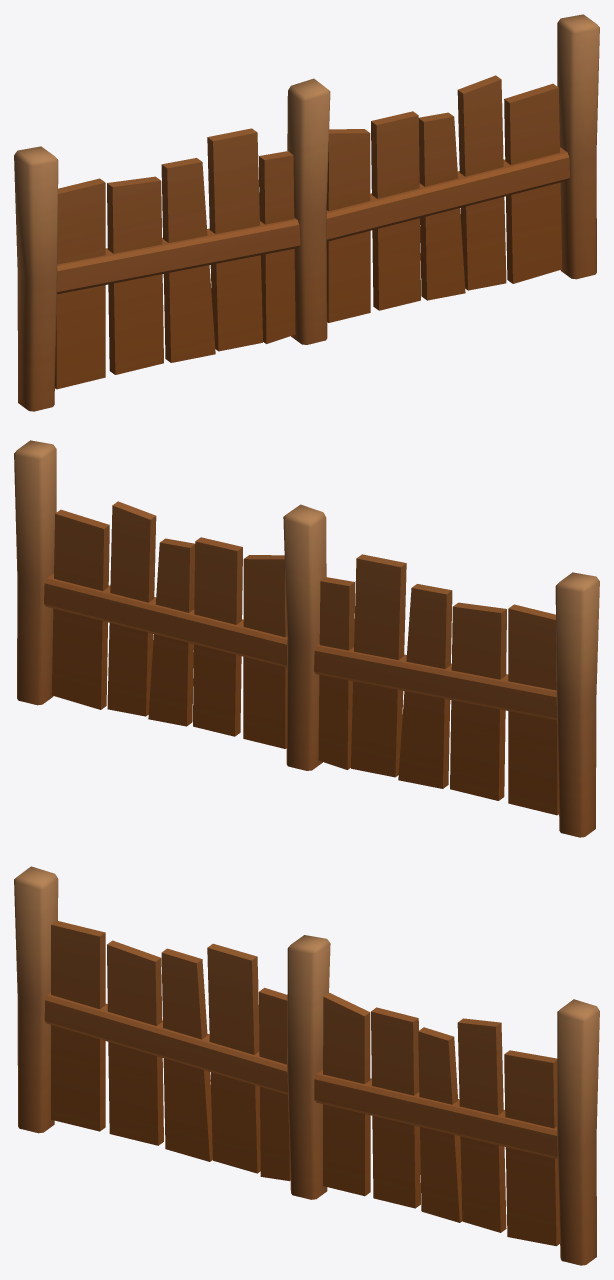
Rendered from WallFence_1_1_A.glb.
3 renders of one model, top to bottom at view 1: azimuth 30°, elevation 25°; view 2: azimuth 150°, elevation 25°; view 3: azimuth 330°, elevation 25°, orthographic.
Visible parts, largest first — view 1: WallFence_1_1_A; view 2: WallFence_1_1_A; view 3: WallFence_1_1_A.
Part boxes in pixels (x1,y1,x2,y2): WallFence_1_1_A: (14, 14, 599, 411); WallFence_1_1_A: (14, 440, 599, 837); WallFence_1_1_A: (14, 866, 599, 1265).
Size of the model in its own units: 2.1 by 0.8803 by 0.1127.
1 material, 1 textured.
